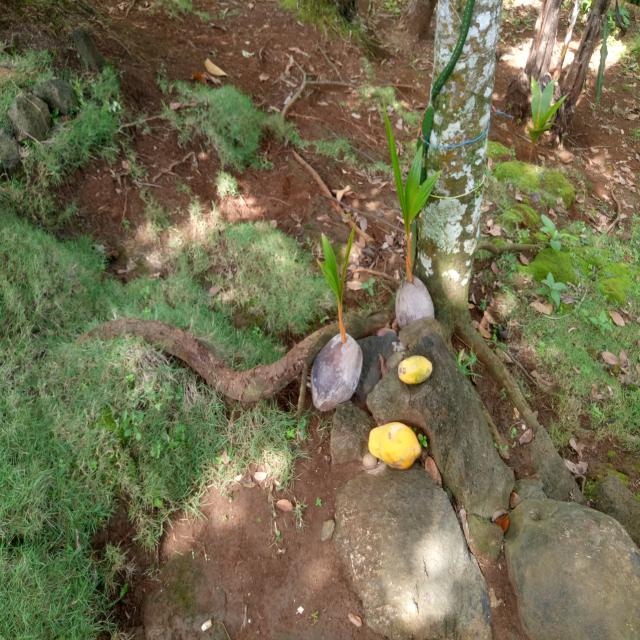Pepaya rippen: (353, 416, 424, 477), (392, 351, 445, 392)
